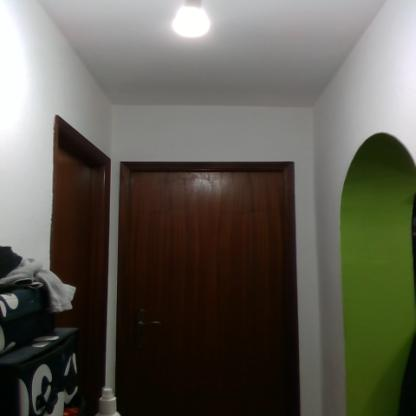closed: (104, 146, 314, 416), (50, 110, 114, 416)
